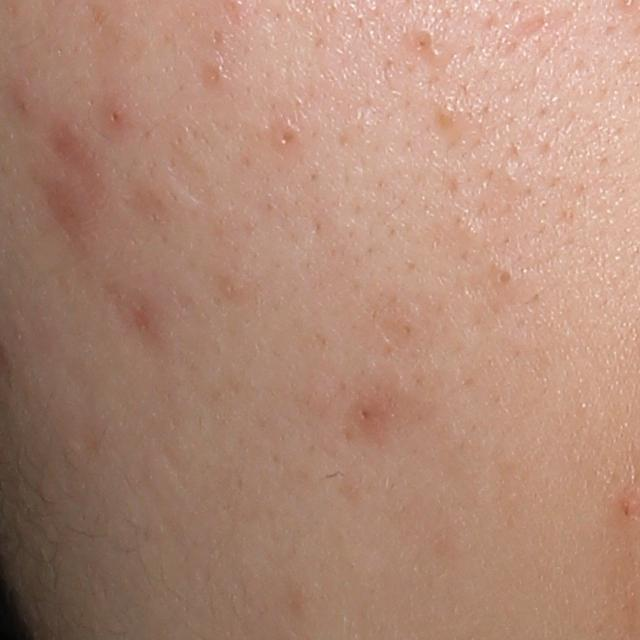comedo: (488, 260, 521, 294), (273, 119, 299, 150)
papule: (104, 100, 131, 128)
